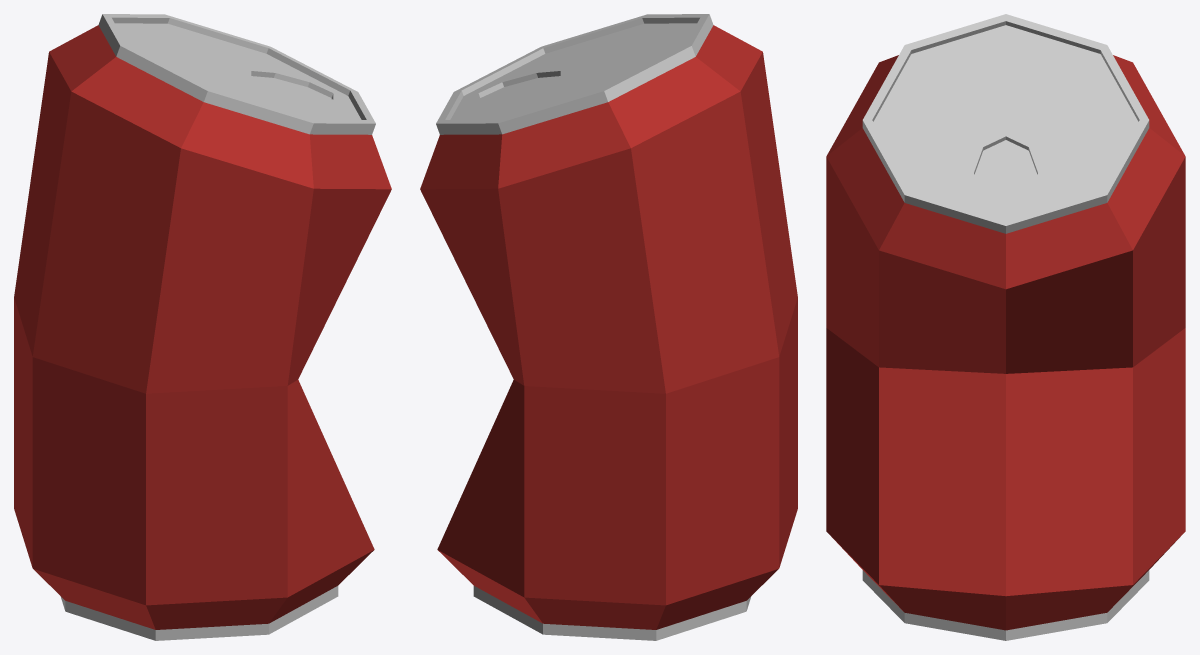
Rendered from crumpled_can2.fbx.
3 views of the same model, side by side, from view 1: azimuth 30°, elevation 25°; view 2: azimuth 150°, elevation 25°; view 3: azimuth 270°, elevation 25° (orthographic). The views are drawn at different scales.
Visible parts, largest first — view 1: crumpled_can2; view 2: crumpled_can2; view 3: crumpled_can2.
Boxes of the visible parts, x1,y1,x2,y2 form: crumpled_can2: (14, 14, 391, 640); crumpled_can2: (420, 14, 797, 640); crumpled_can2: (826, 14, 1185, 640).
Bounding box in the file's own units: 0.0937 × 0.1468 × 0.0899.
